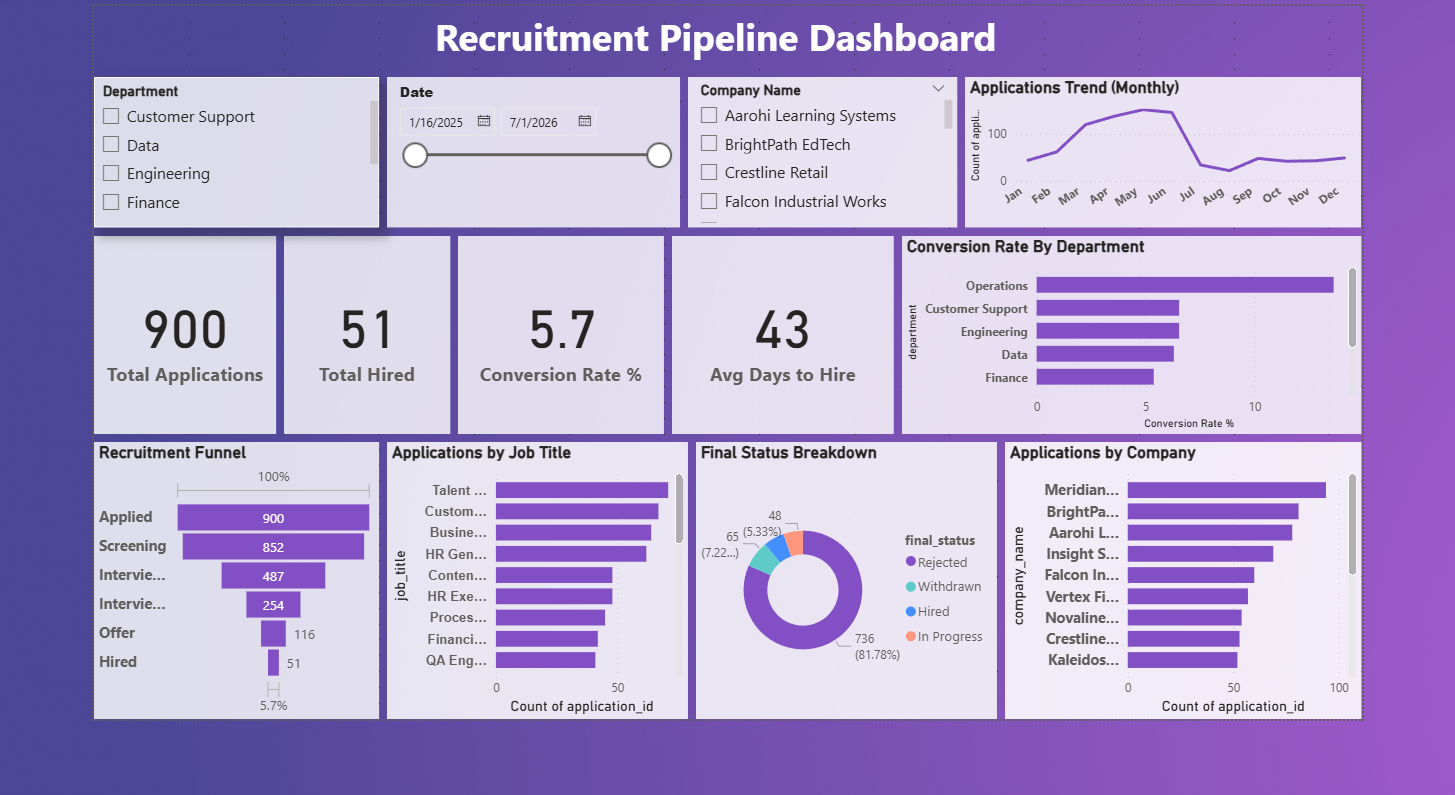

The page's visual inventory and layout, read from the dashboard file:
{"tool":"powerbi","page":{"name":"Page 1","canvas":[1280,720],"ordinal":0},"visuals":[{"type":"card","fields":{"Values":["applications.Total Applications"]},"box":[0,232,184,200],"z":0},{"type":"card","fields":{"Values":["applications.Total Hired"]},"box":[192,232,168,200],"z":1000},{"type":"card","fields":{"Values":["applications.Conversion Rate %"]},"box":[368,232,208,200],"z":2000},{"type":"funnel","title":"\tRecruitment Funnel","fields":{"Category":["application_stages.stage_name"],"Y":["CountNonNull(application_stages.application_id)"]},"box":[0,440,288,280],"z":3000},{"type":"lineChart","title":"Applications Trend (Monthly)","fields":{"Category":["DateTable.Month"],"Y":["CountNonNull(applications.application_id)"]},"box":[880,72,400,152],"z":4000},{"type":"barChart","title":"Applications by Job Title","fields":{"Category":["jobs.job_title"],"Y":["CountNonNull(applications.application_id)"]},"box":[296,440,304,280],"z":5000},{"type":"barChart","title":"Applications by Company","fields":{"Category":["companies.company_name"],"Y":["CountNonNull(applications.application_id)"]},"box":[920,440,360,280],"z":6000},{"type":"donutChart","title":"\tFinal Status Breakdown","fields":{"Category":["applications.final_status"],"Y":["CountNonNull(applications.application_id)"]},"box":[608,440,304,280],"z":7000},{"type":"slicer","fields":{"Values":["companies.company_name"]},"box":[600,72,272,152],"z":8000},{"type":"slicer","fields":{"Values":["jobs.department"]},"box":[0,72,288,152],"z":9000},{"type":"slicer","fields":{"Values":["DateTable.Date"]},"box":[296,72,296,152],"z":10000},{"type":"card","fields":{"Values":["applications.Avg Days to Hire"]},"box":[584,232,224,200],"z":11000},{"type":"clusteredBarChart","title":"Conversion Rate By Department ","fields":{"Y":["applications.Conversion Rate %"],"Category":["jobs.department"]},"box":[816,232,464,200],"z":12000},{"type":"textbox","box":[0,0,1280,64],"z":13000}]}

Visuals, with their boxes in screenshot pixels (x1, y1, x2, y2), scaled from the page's 1280x720 canvas onto the 1455x795 screenshot:
card - applications.Total Applications: [left=0, top=256, right=209, bottom=477]
card - applications.Total Hired: [left=218, top=256, right=409, bottom=477]
card - applications.Conversion Rate %: [left=418, top=256, right=655, bottom=477]
"	Recruitment Funnel" funnel: [left=0, top=486, right=327, bottom=794]
"Applications Trend (Monthly)" lineChart: [left=1000, top=80, right=1454, bottom=247]
"Applications by Job Title" barChart: [left=336, top=486, right=682, bottom=794]
"Applications by Company" barChart: [left=1046, top=486, right=1454, bottom=794]
"	Final Status Breakdown" donutChart: [left=691, top=486, right=1037, bottom=794]
slicer - companies.company_name: [left=682, top=80, right=991, bottom=247]
slicer - jobs.department: [left=0, top=80, right=327, bottom=247]
slicer - DateTable.Date: [left=336, top=80, right=673, bottom=247]
card - applications.Avg Days to Hire: [left=664, top=256, right=918, bottom=477]
"Conversion Rate By Department " clusteredBarChart: [left=928, top=256, right=1454, bottom=477]
textbox: [left=0, top=0, right=1454, bottom=71]
